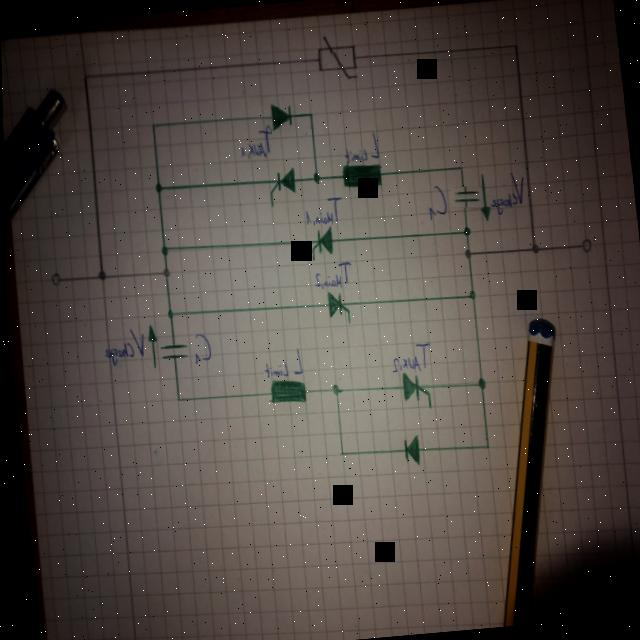capacitor: (451, 183, 480, 209), (156, 339, 188, 362)
diode: (268, 99, 293, 131), (400, 432, 421, 467)
inductor: (340, 159, 384, 189), (265, 376, 306, 405)
junction: (475, 375, 485, 390), (95, 268, 106, 280), (160, 265, 170, 278), (462, 247, 472, 260), (311, 170, 321, 183), (461, 224, 471, 236), (530, 241, 539, 254), (153, 180, 162, 193), (467, 286, 475, 300), (330, 382, 339, 394), (159, 244, 168, 255), (165, 307, 174, 318), (173, 394, 181, 402), (337, 448, 344, 456), (150, 120, 157, 128), (82, 71, 89, 79), (307, 110, 314, 118), (456, 163, 463, 171), (483, 442, 489, 449), (513, 42, 520, 48)
terminal: (579, 236, 592, 253), (49, 270, 61, 286)
text: (485, 169, 527, 215), (101, 326, 146, 366), (387, 340, 432, 373), (311, 258, 354, 290), (302, 194, 345, 226), (237, 123, 275, 159), (341, 130, 380, 164), (261, 346, 302, 378), (424, 182, 448, 220), (190, 331, 211, 364)
thyristor: (398, 368, 431, 404), (265, 165, 297, 199), (306, 223, 334, 260), (325, 288, 350, 320)
